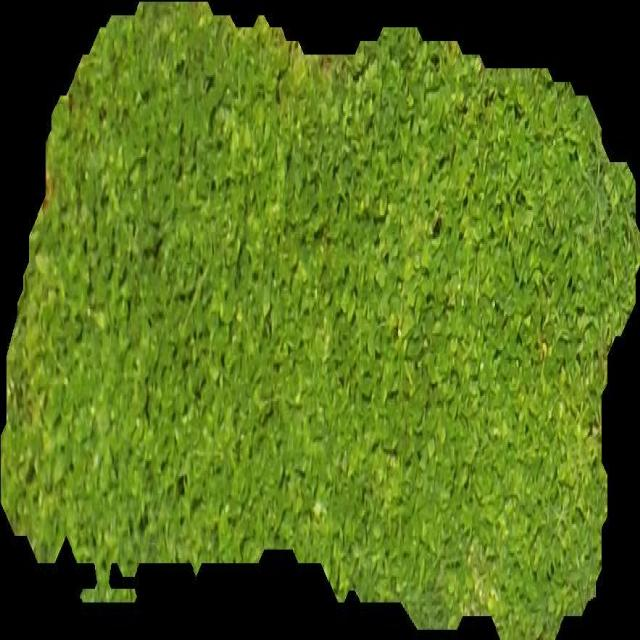Bean: (1, 1, 640, 640)
